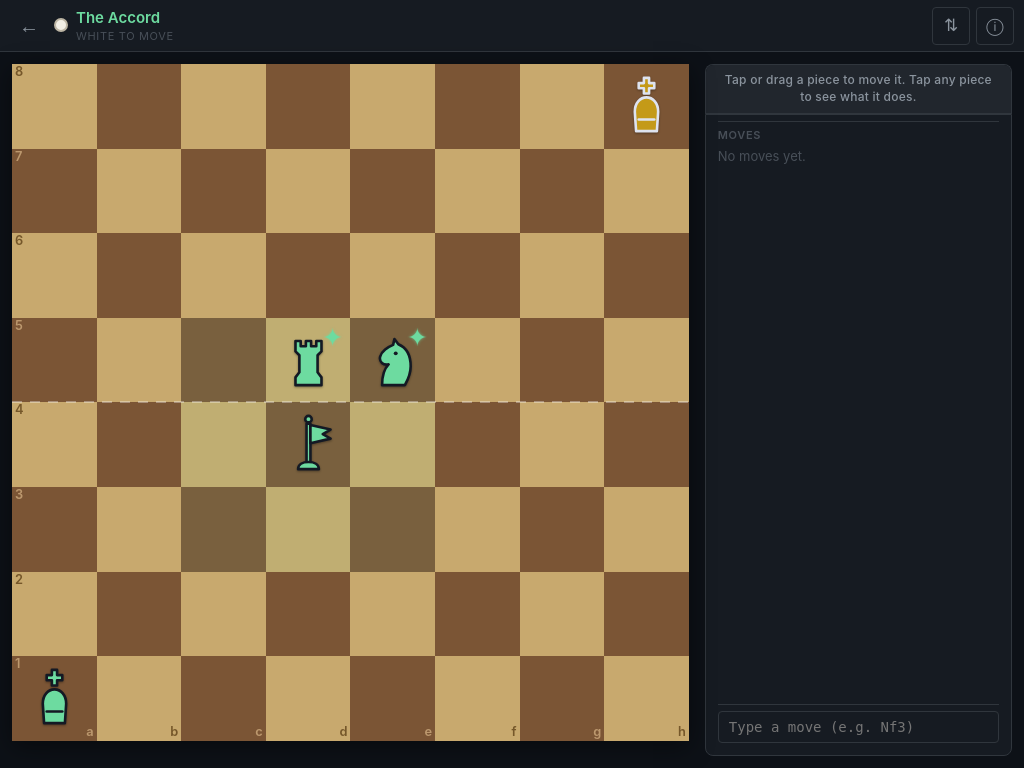
Scenario: piece info panel › an Accord knight names the moves it borrows in Concord
Click the 2nd cell "✦".
click(393, 360)  # box [350,318,435,402]
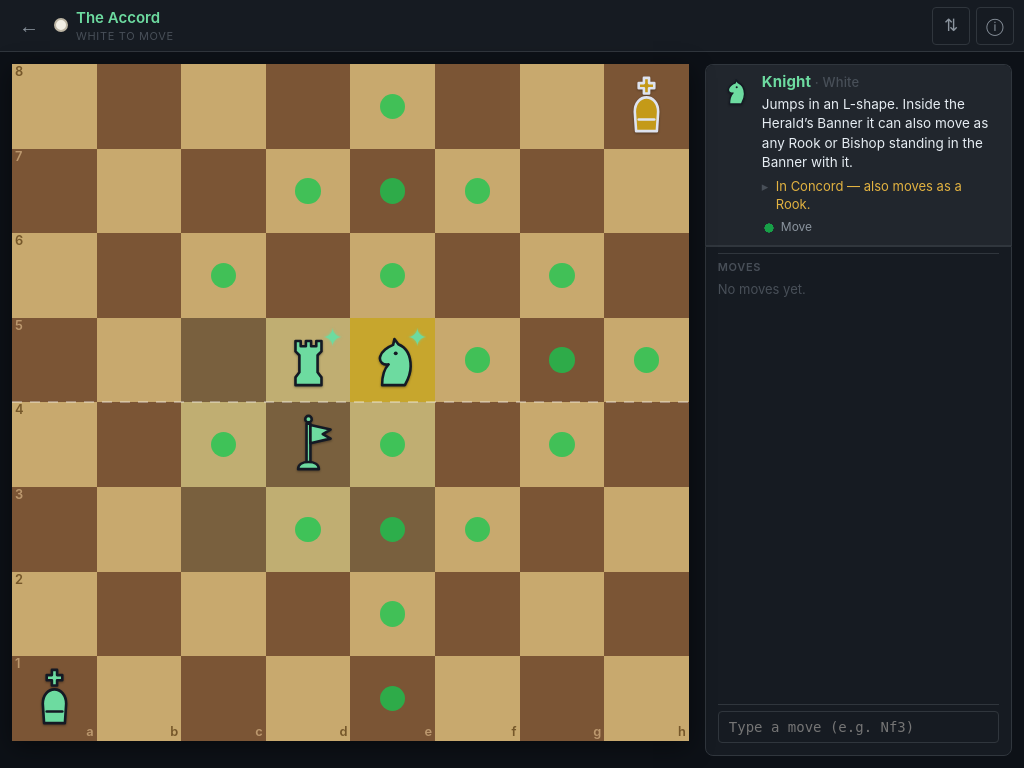
Check: the list with test id "piece-notes" shows "also moves as a Rook", box [776,178,962,212]
